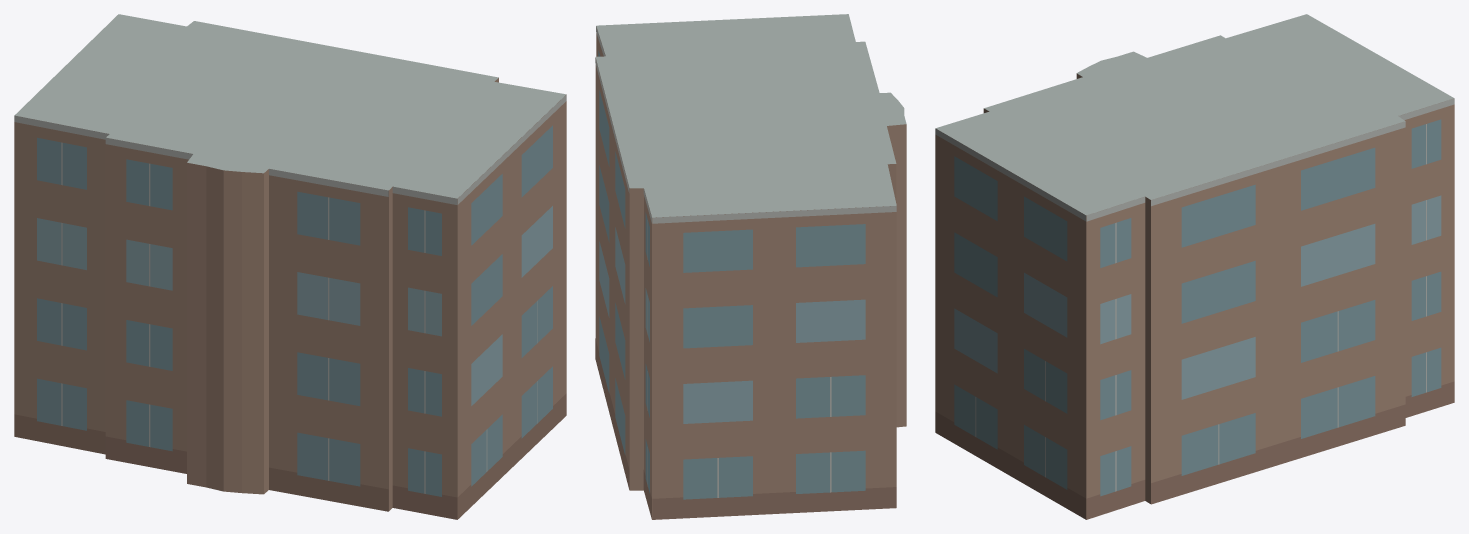
File: survey-upis-32881106.glb
3 renders of one model, left to right at view 1: azimuth 30°, elevation 25°; view 2: azimuth 150°, elevation 25°; view 3: azimuth 270°, elevation 25°, orthographic. The views are drawn at different scales.
Parts seen in each view (by area): view 1: survey-upis-32881106.tmp; view 2: survey-upis-32881106.tmp; view 3: survey-upis-32881106.tmp.
Part boxes in pixels (x1,y1,x2,y2): survey-upis-32881106.tmp: (14,14,566,519); survey-upis-32881106.tmp: (595,14,906,519); survey-upis-32881106.tmp: (935,14,1454,519).
Size of the model in its own units: 17.05 by 12 by 18.56.
